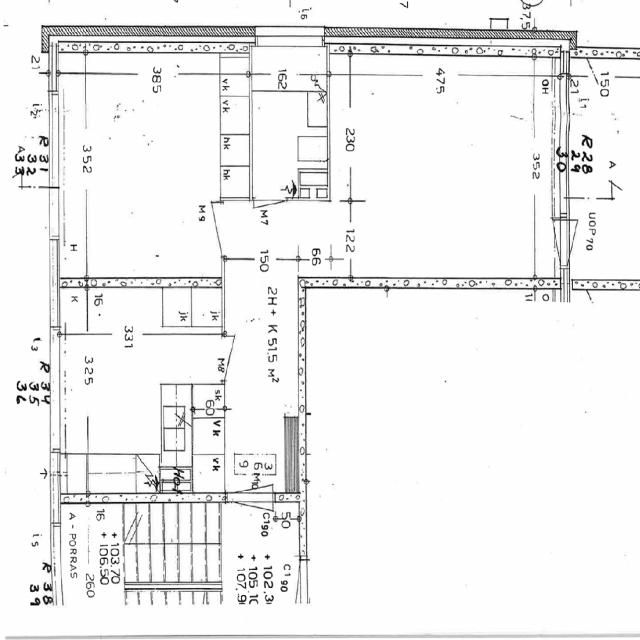door: (181, 202, 224, 255), (235, 492, 272, 550), (235, 444, 272, 501), (525, 218, 569, 265), (561, 218, 605, 265), (222, 336, 258, 380), (253, 197, 286, 242)
